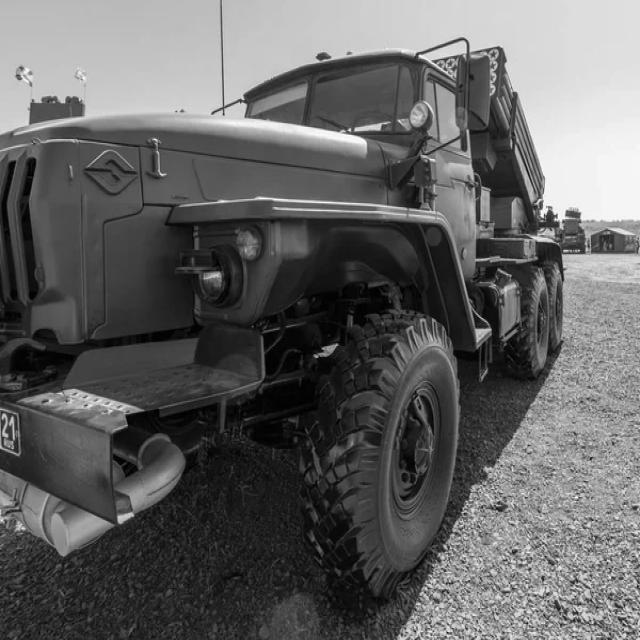Truck: (0, 46, 566, 597)
